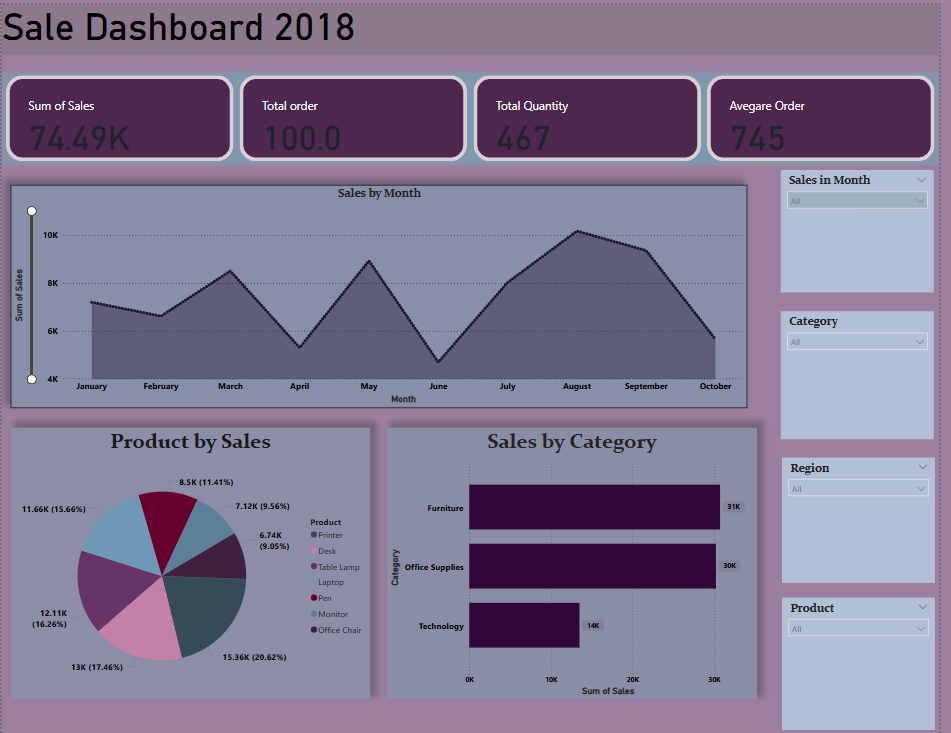

The page's visual inventory and layout, read from the dashboard file:
{"tool":"powerbi","page":{"name":"Dashboard","canvas":[1500,1200],"ordinal":0},"visuals":[{"type":"shape","title":"Sale Dashboard 2018","box":[0,0,1500,80],"z":0},{"type":"cardVisual","fields":{"Data":["Sum(Orders__2.Sales)","Customers.Total order","Customers.total Quantity","Orders__2.Avegare Order"]},"box":[0,106,1500,150],"z":1000},{"type":"slicer","fields":{"Values":["Orders__2.Order Date.Variation.Date Hierarchy.Month","Orders__2.Sales"]},"box":[1246,264,245,196],"z":2000},{"type":"pieChart","title":"Product  by Sales","fields":{"Y":["Sum(Orders__2.Sales)"],"Category":["Orders__2.Product"]},"box":[13.3,675,575,435],"z":3000},{"type":"barChart","title":"Sales by Category","fields":{"Y":["Sum(Orders__2.Sales)"],"Category":["Orders__2.Category"]},"box":[615,675,591.7,435],"z":4000},{"type":"slicer","fields":{"Values":["Orders__2.Product"]},"box":[1247,947,245,212],"z":5000},{"type":"slicer","fields":{"Values":["Orders__2.Region"]},"box":[1247,723,245,201],"z":6000},{"type":"slicer","fields":{"Values":["Orders__2.Category"]},"box":[1246,489,245,205],"z":7000},{"type":"stackedAreaChart","title":" Sales by Month","fields":{"Category":["Orders__2.Order Date.Variation.Date Hierarchy.Month"],"Y":["Sum(Orders__2.Sales)"]},"box":[13.3,288.3,1178.3,356.7],"z":8000}]}

Visuals, with their boxes on the page's 1500x1200 design canvas (x1, y1, x2, y2). These are canvas units, not pixel positions in the 951x733 screenshot, which may show the page scaled, cropped or inside an application window:
"Sale Dashboard 2018" shape: bbox(0, 0, 1500, 80)
cardVisual - Sum(Orders__2.Sales) x Customers.Total order: bbox(0, 106, 1500, 256)
slicer - Orders__2.Order Date.Variation.Date Hierarchy.Month x Orders__2.Sales: bbox(1246, 264, 1491, 460)
"Product  by Sales" pieChart: bbox(13, 675, 588, 1110)
"Sales by Category" barChart: bbox(615, 675, 1207, 1110)
slicer - Orders__2.Product: bbox(1247, 947, 1492, 1159)
slicer - Orders__2.Region: bbox(1247, 723, 1492, 924)
slicer - Orders__2.Category: bbox(1246, 489, 1491, 694)
" Sales by Month" stackedAreaChart: bbox(13, 288, 1192, 645)
